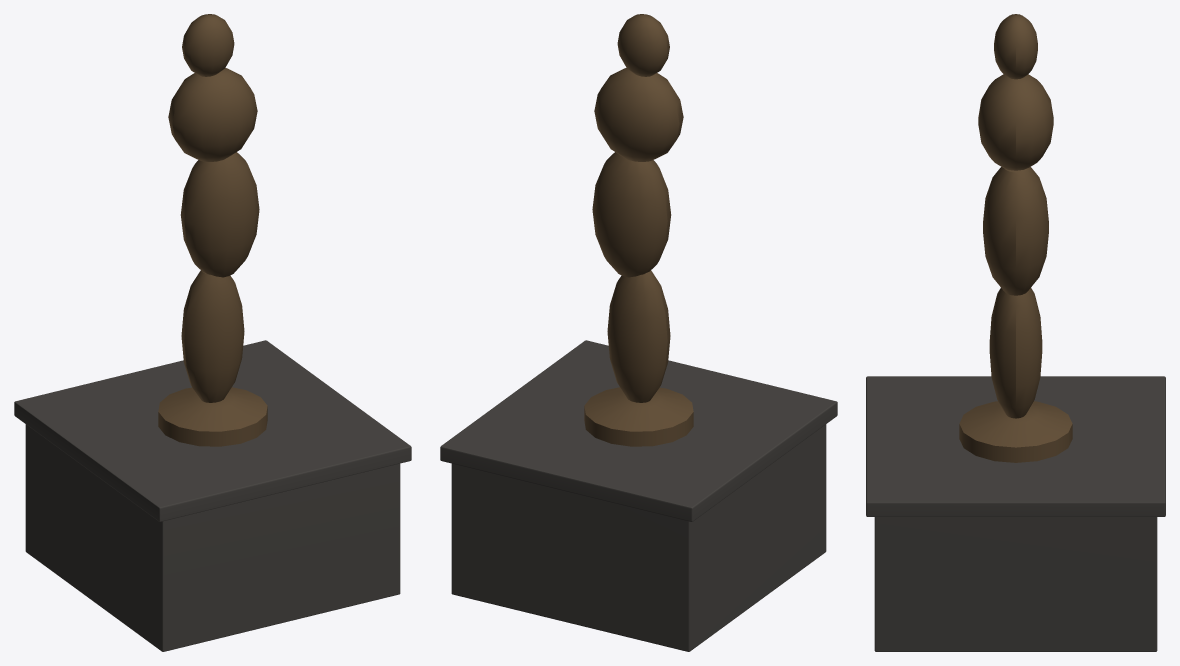
File: prop_bronze_court.glb
The picture shows the model from 3 angles, left to right: view 1: azimuth 30°, elevation 25°; view 2: azimuth 150°, elevation 25°; view 3: azimuth 270°, elevation 25°; orthographic projection. The views are drawn at different scales.
Visible parts, largest first — view 1: Bronze; view 2: Bronze; view 3: Bronze.
Boxes of the visible parts, bbox=[...] form: Bronze: bbox=[14, 14, 411, 651]; Bronze: bbox=[440, 14, 837, 651]; Bronze: bbox=[866, 14, 1165, 651].
Size of what is drawn, in the model's own units: 1.06 by 2.24 by 1.06.
